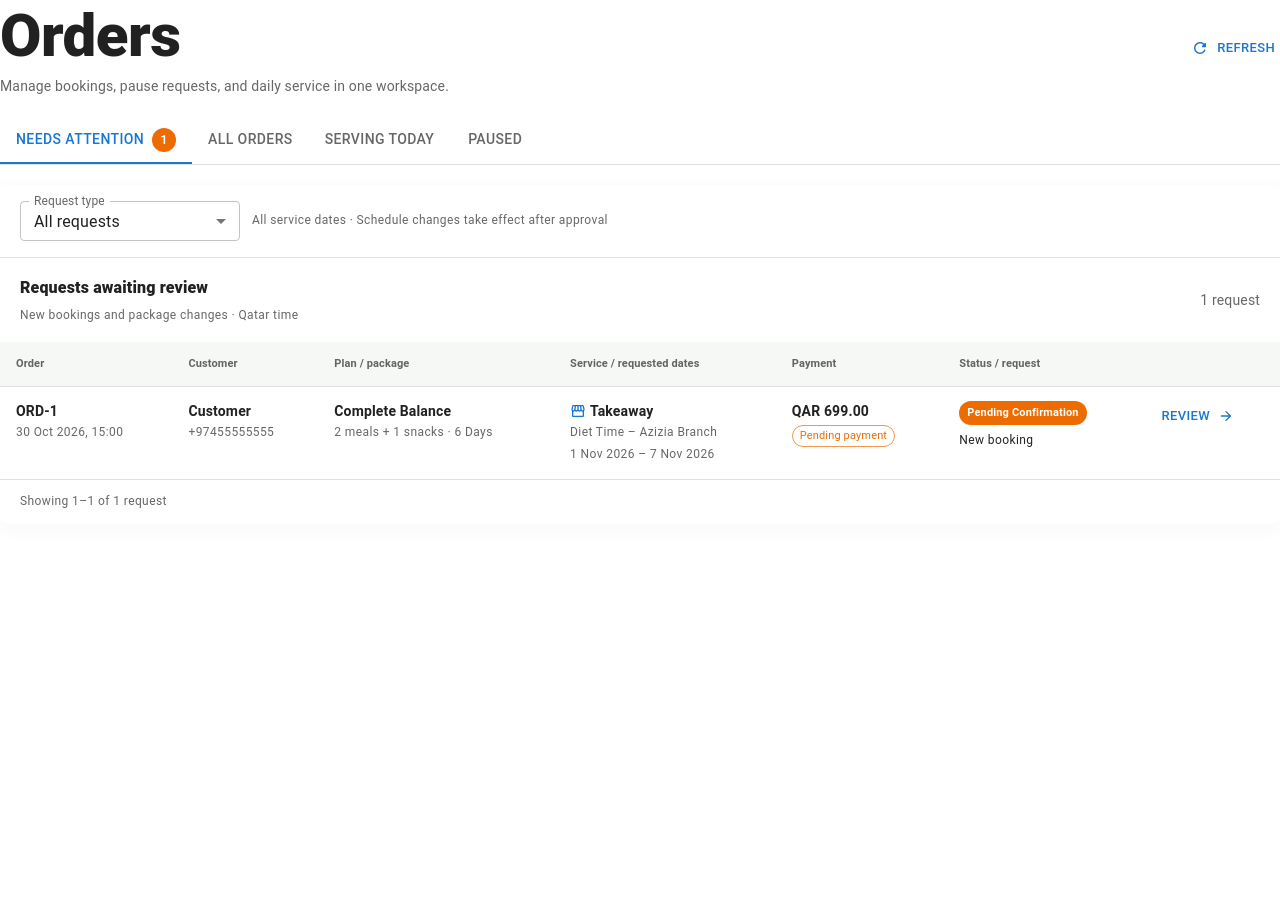
it: Staff order review › requires an explicit approval confirmation and sends the current version
Click the button "Review" at (1197, 416), box [1156,401,1237,432]
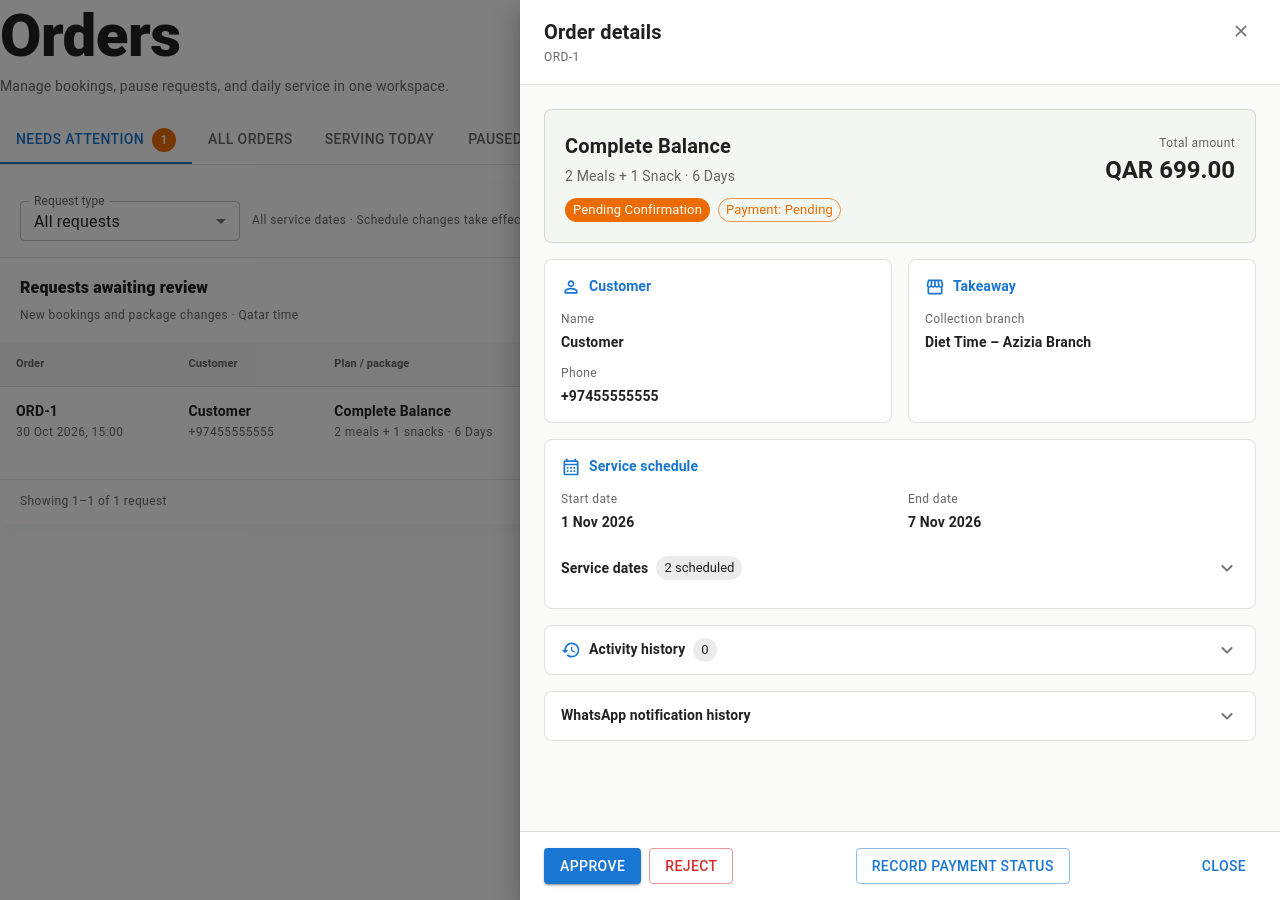
Click the button "Approve" at (593, 866), box [544,848,641,884]
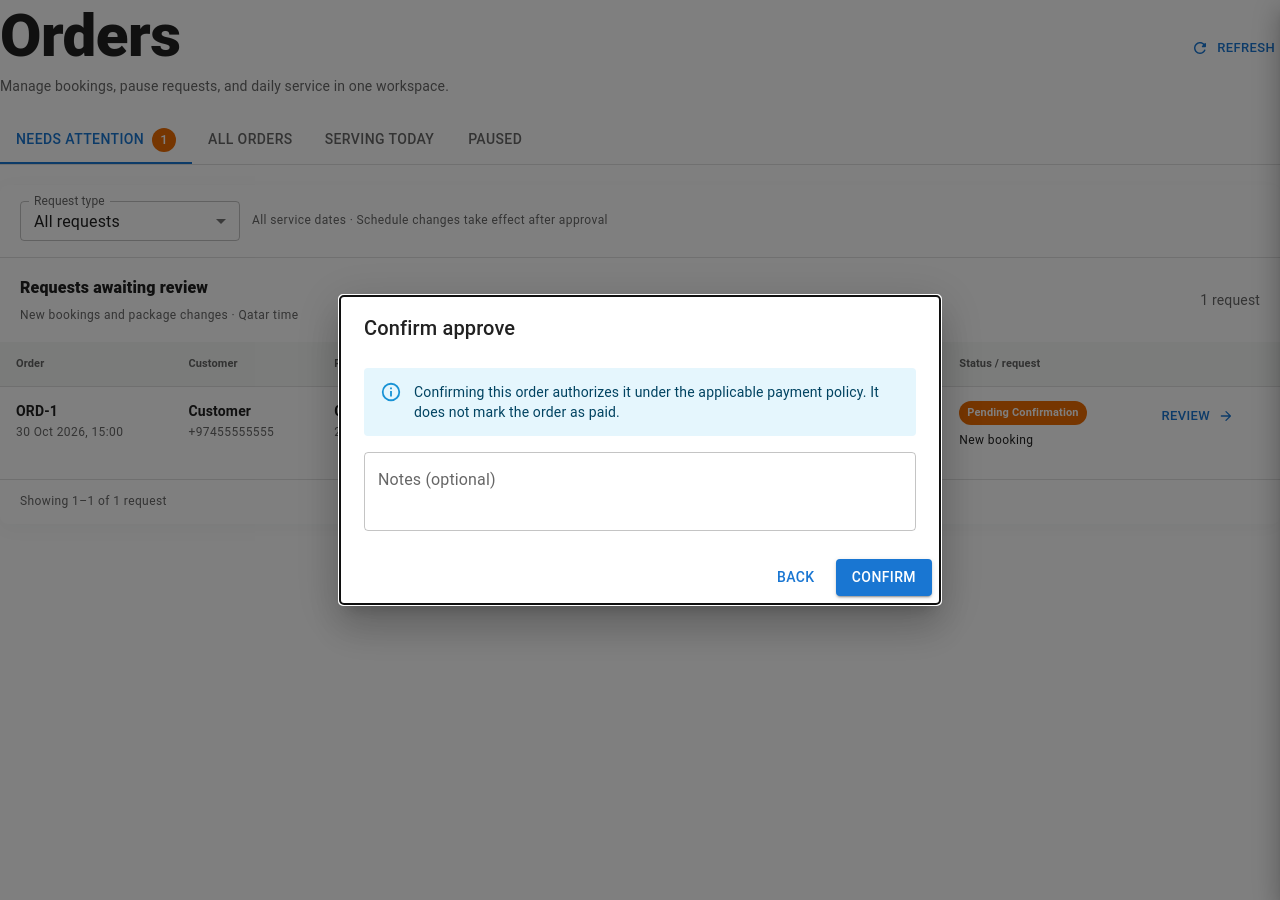
Click the button "Confirm" at (884, 578), box [836,559,932,596]
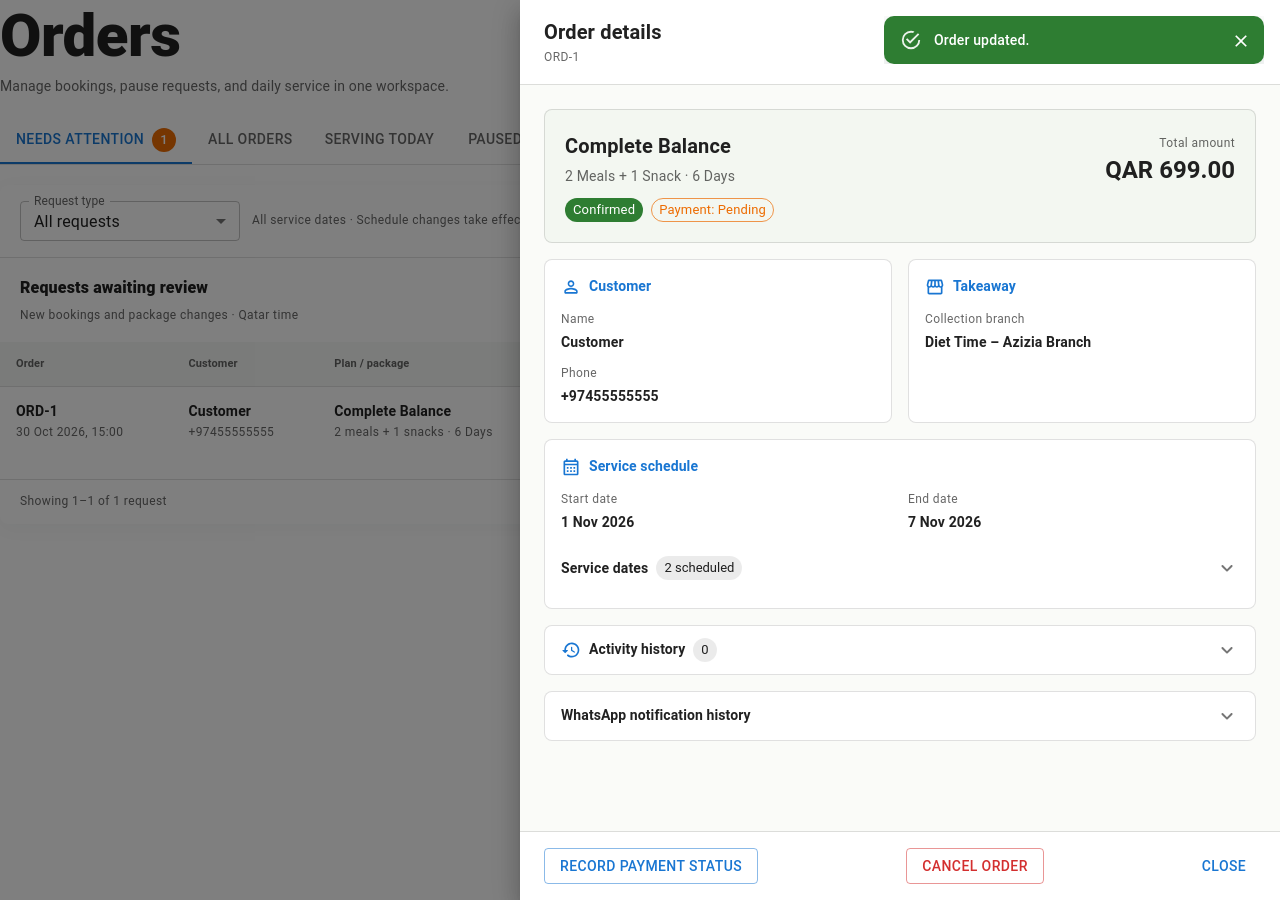
Now the text "Payment: Pending" is shown, box [652,200,773,220]
Now the text "Order updated." is shown, box [934,32,1030,48]
Now the text "Confirmed" is shown, box [573,202,635,217]
